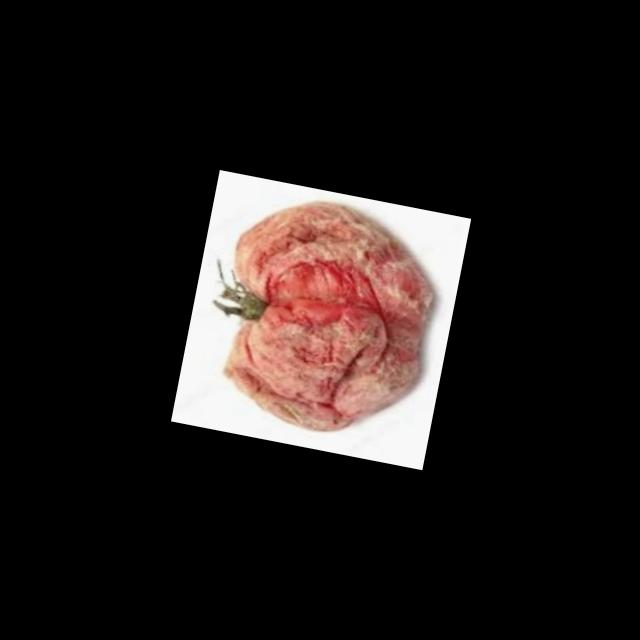tomato: (186, 182, 447, 431)
